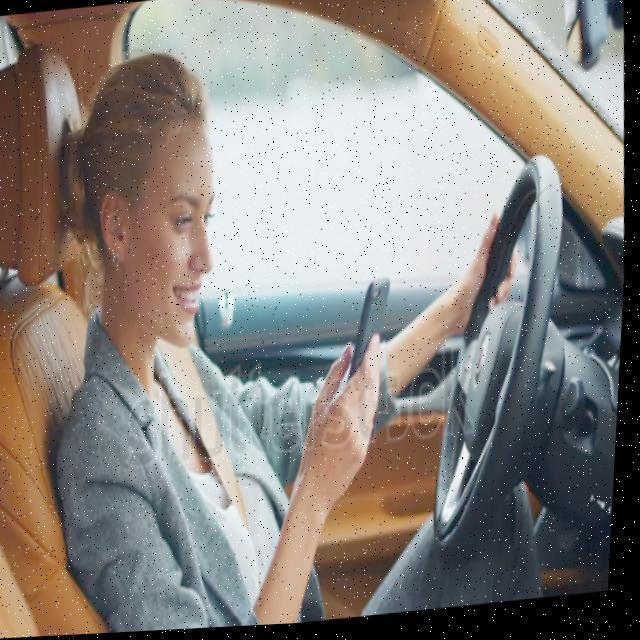PhoneCall: (344, 276, 402, 410)
